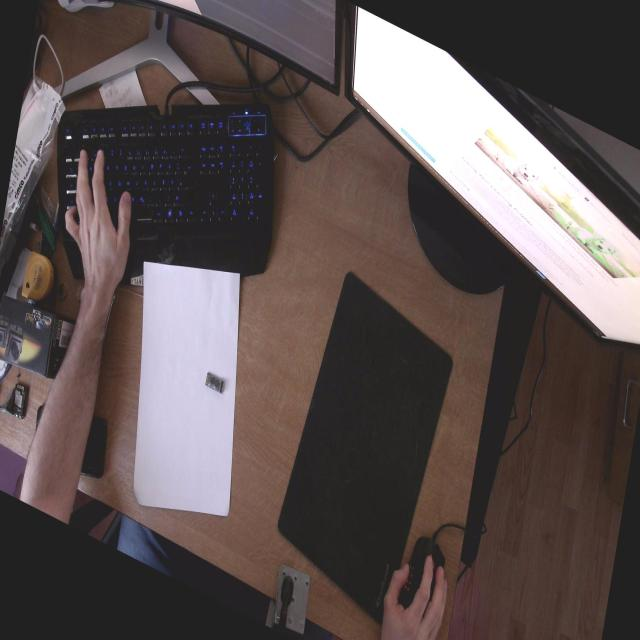keyboard-with-hands: (59, 101, 279, 278)
